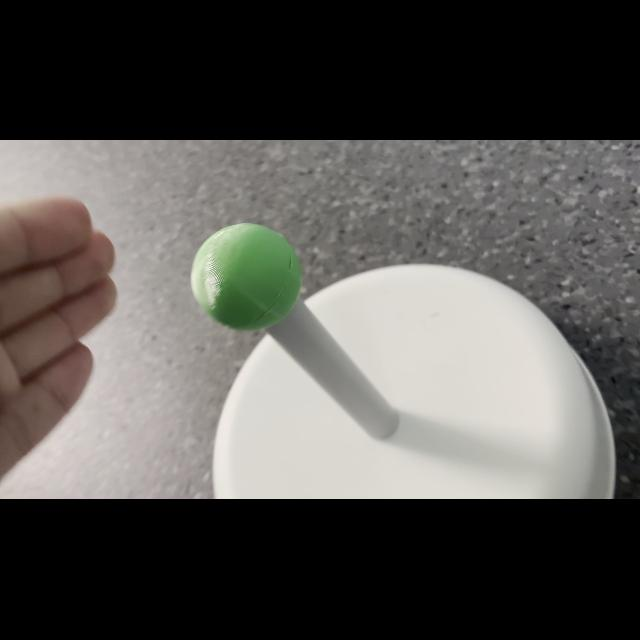objects: (189, 217, 303, 336)
